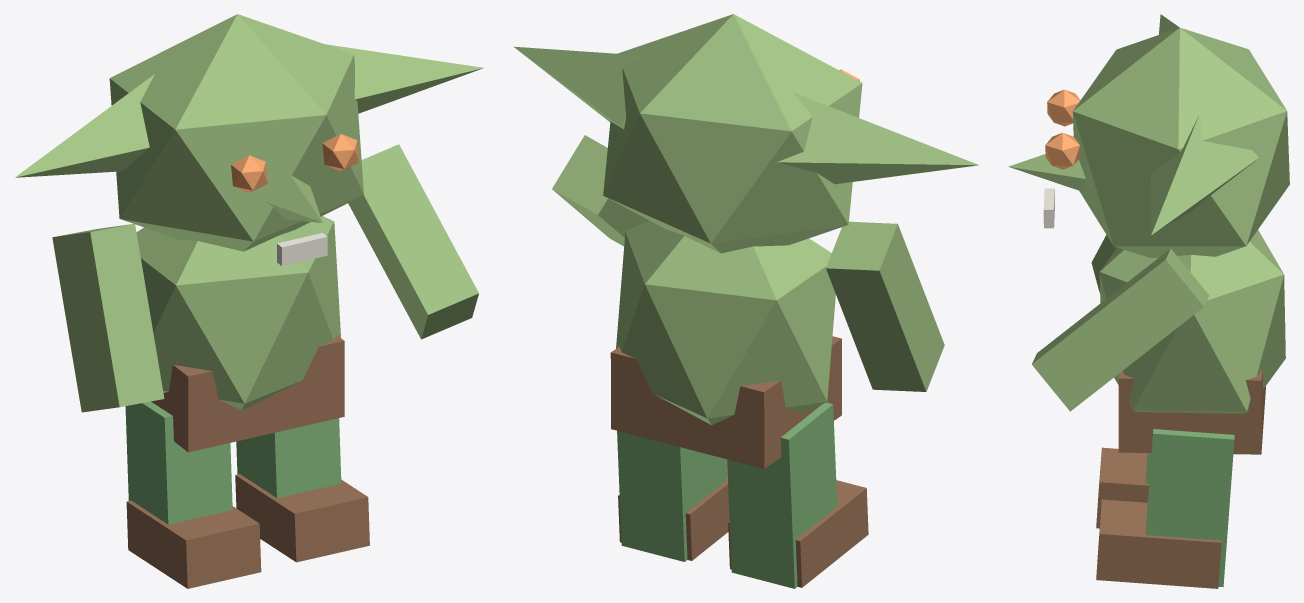
File: npcpose_goblin_attack_01.glb
3 views of the same model, side by side, from view 1: azimuth 30°, elevation 25°; view 2: azimuth 150°, elevation 25°; view 3: azimuth 270°, elevation 25° (orthographic). The views are drawn at different scales.
Parts seen in each view (by area): view 1: npcpose; view 2: npcpose; view 3: npcpose.
Boxes of the visible parts, x1,y1,x2,y2 form: npcpose: (15,14,483,588); npcpose: (514,14,978,588); npcpose: (1008,14,1289,588).
Bounding box in the file's own units: 1.03 × 1.12 × 0.5522.
